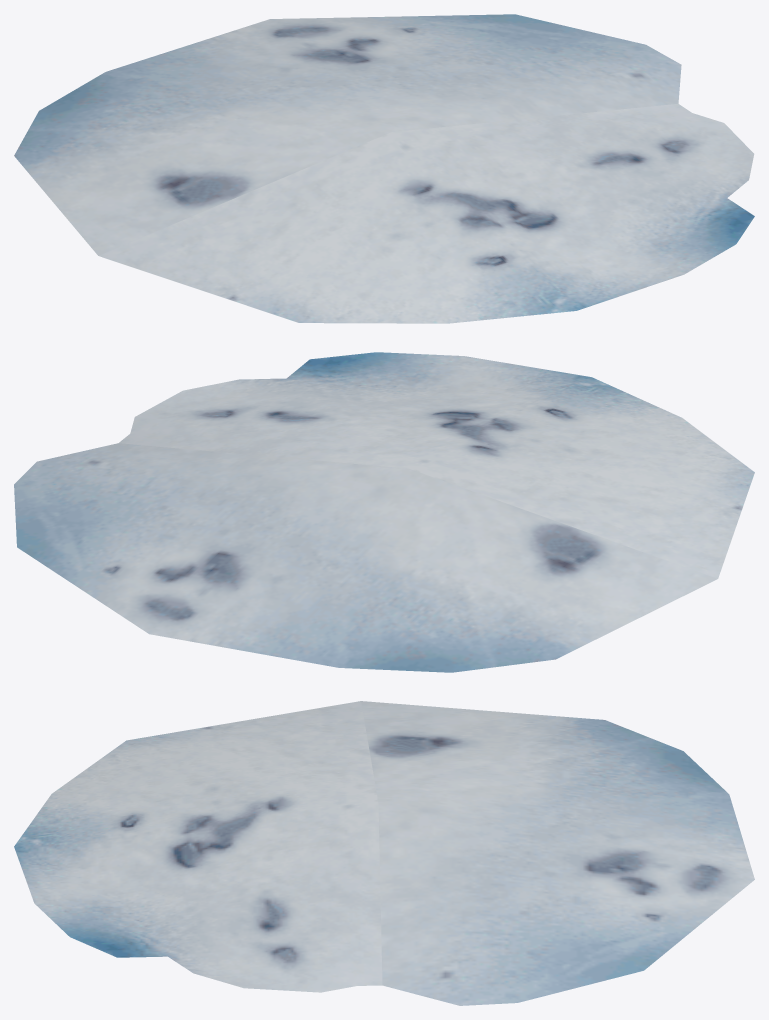
The model's file is bs_binshan_25.FBX.
3 views of the same model, one above another, from view 1: azimuth 30°, elevation 25°; view 2: azimuth 150°, elevation 25°; view 3: azimuth 270°, elevation 25° (orthographic).
Visible parts, largest first — view 1: bs_binshan_25; view 2: bs_binshan_25; view 3: bs_binshan_25.
Part boxes in pixels (x1=…): bs_binshan_25: x1=14, y1=14, x2=754, y2=323; bs_binshan_25: x1=14, y1=352, x2=754, y2=672; bs_binshan_25: x1=14, y1=701, x2=754, y2=1005.
Bounding box in the file's own units: 647 × 42.61 × 664.
